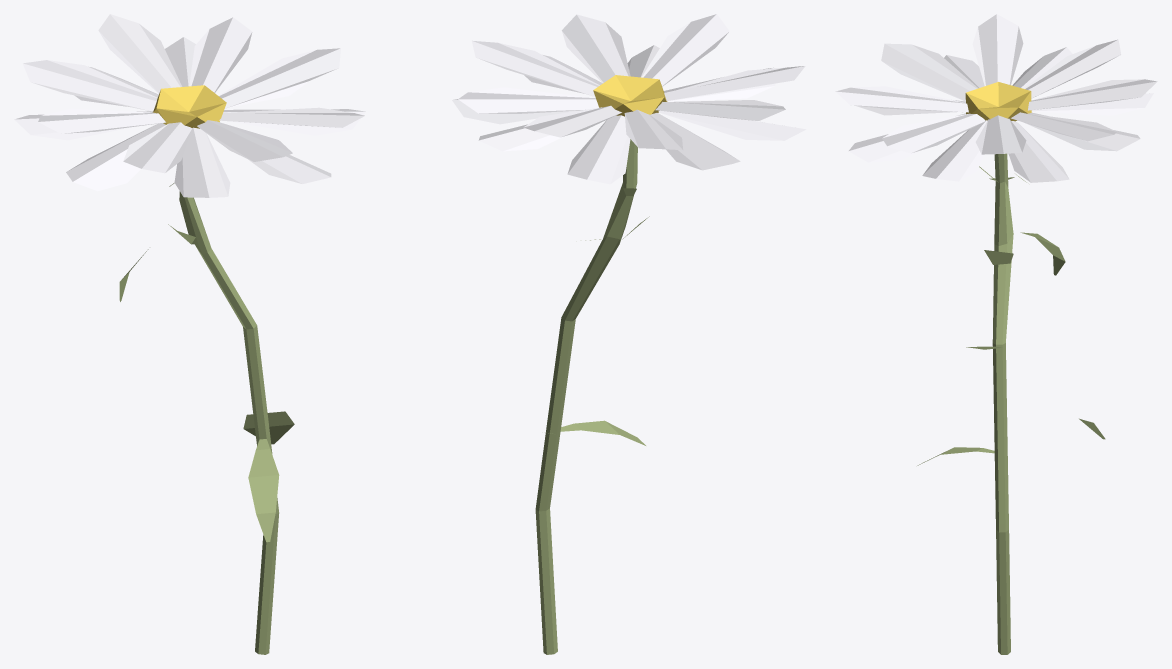
Rendered from flower.glb.
3 renders of one model, left to right at view 1: azimuth 30°, elevation 25°; view 2: azimuth 150°, elevation 25°; view 3: azimuth 270°, elevation 25°, orthographic. The views are drawn at different scales.
Visible parts, largest first — view 1: Flower; view 2: Flower; view 3: Flower.
Boxes of the visible parts, left/top/right/bottom form: Flower: left=14, top=14, right=365, bottom=654; Flower: left=452, top=14, right=806, bottom=654; Flower: left=835, top=14, right=1157, bottom=654.
Size of the model in its own units: 1.06 by 1.78 by 0.9589.
